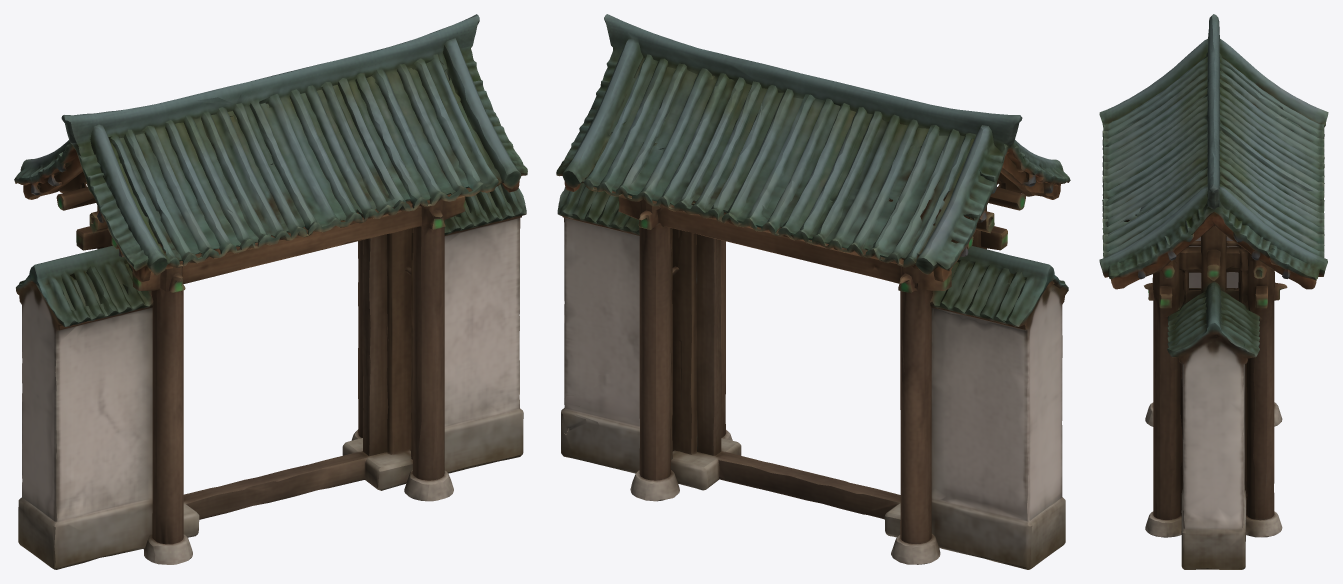
File: ARCH-008.glb
The picture shows the model from 3 angles, left to right: view 1: azimuth 30°, elevation 25°; view 2: azimuth 150°, elevation 25°; view 3: azimuth 270°, elevation 25°; orthographic projection. The views are drawn at different scales.
Visible parts, largest first — view 1: world; view 2: world; view 3: world.
Boxes of the visible parts, x1,y1,x2,y2 form: world: (14,14,527,569); world: (556,14,1070,569); world: (1099,14,1328,569).
Size of the model in its own units: 4.5 by 3.97 by 2.2.
1 material, 1 textured.
